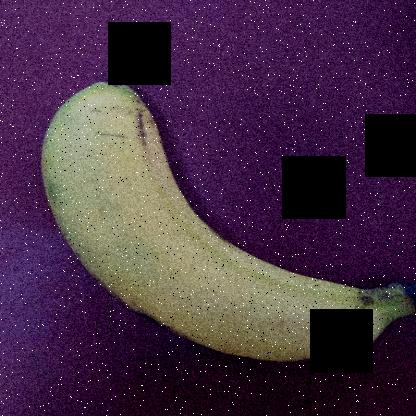freshripe: (44, 82, 389, 378)
